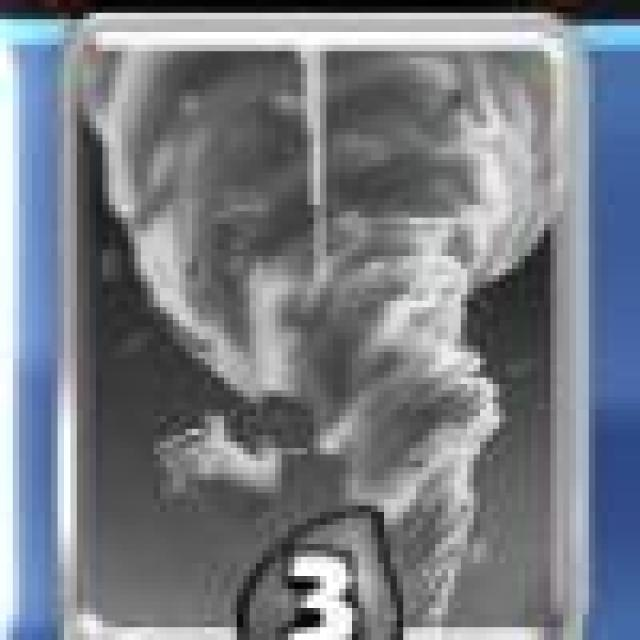Tornado: (63, 23, 597, 640)
